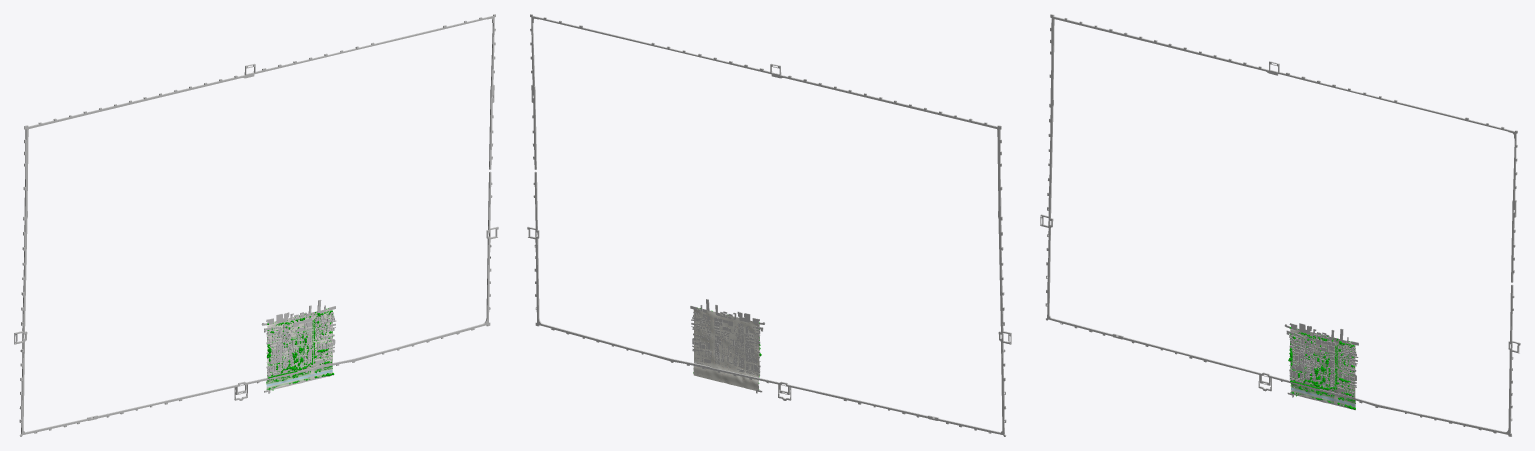
3 renders of one model, left to right at view 1: azimuth 30°, elevation 25°; view 2: azimuth 150°, elevation 25°; view 3: azimuth 330°, elevation 25°, orthographic.
Visible parts, largest first — view 1: TPX_Buildings, TPX_Ground, TPX_GreenAreas; view 2: TPX_Buildings, TPX_Ground; view 3: TPX_Buildings, TPX_Ground, TPX_GreenAreas.
Boxes of the visible parts, <box> form: TPX_Buildings: <box>14,14,498,436</box>; TPX_Ground: <box>266,308,332,389</box>; TPX_GreenAreas: <box>266,329,332,390</box>; TPX_Buildings: <box>527,14,1011,436</box>; TPX_Ground: <box>693,308,759,390</box>; TPX_Buildings: <box>1040,14,1520,436</box>; TPX_Ground: <box>1290,328,1355,407</box>; TPX_GreenAreas: <box>1291,350,1355,407</box>.
Bounding box in the file's own units: 4379 × 2884 × 45.64.
